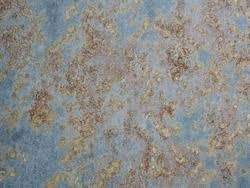rust: (149, 19, 201, 84), (131, 115, 184, 177), (31, 41, 65, 130)
